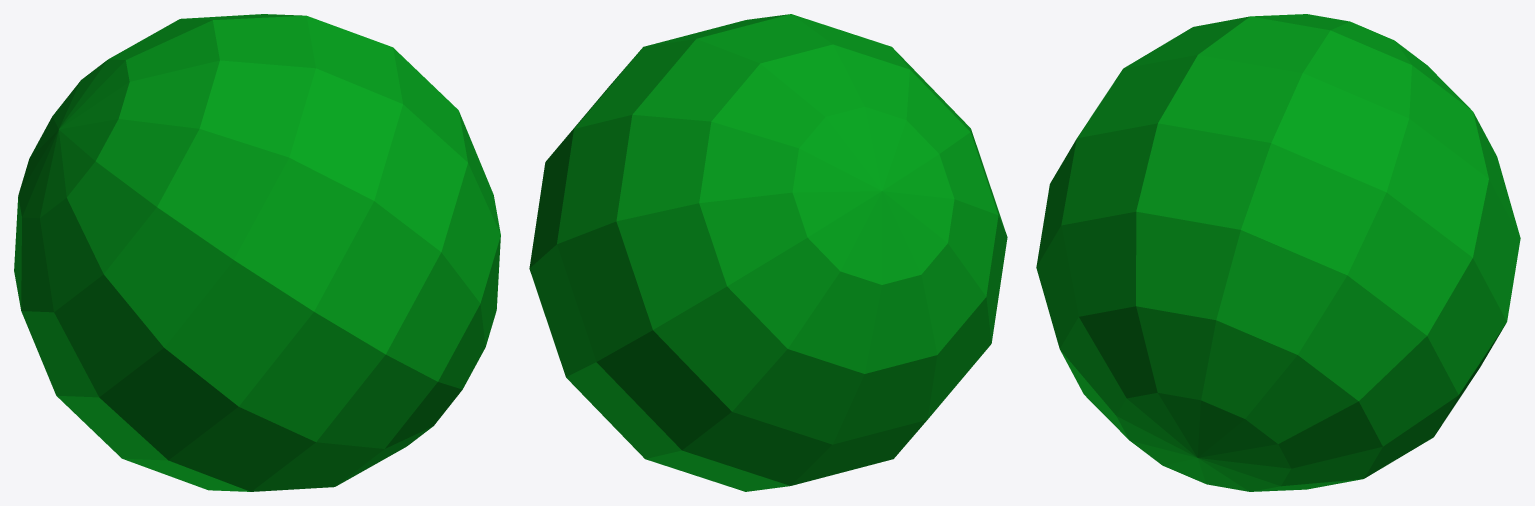
Rendered from greenBullet.fbx.
The picture shows the model from 3 angles, left to right: view 1: azimuth 30°, elevation 25°; view 2: azimuth 150°, elevation 25°; view 3: azimuth 270°, elevation 25°; orthographic projection. The views are drawn at different scales.
Visible parts, largest first — view 1: polySurface758; view 2: polySurface758; view 3: polySurface758.
Boxes of the visible parts, x1=… form: polySurface758: x1=14, y1=14, x2=500, y2=491; polySurface758: x1=529, y1=14, x2=1007, y2=491; polySurface758: x1=1036, y1=14, x2=1520, y2=491.
Bounding box in the file's own units: 0.1572 × 0.1535 × 0.1574.
